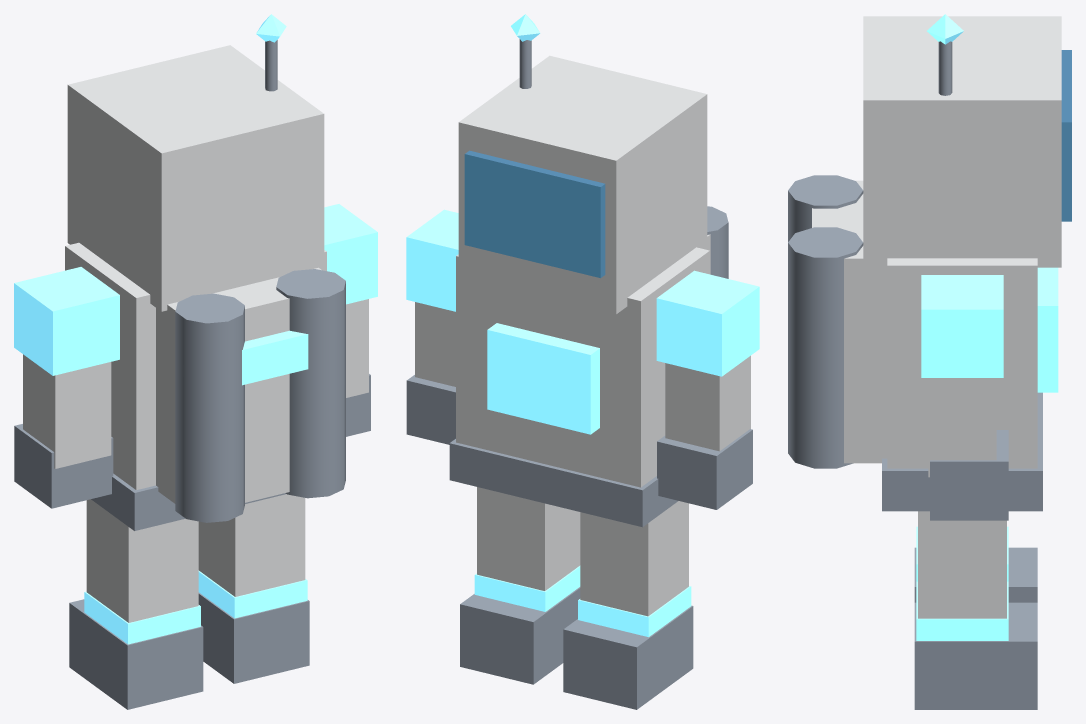
File: astronaut_lunar.glb
The picture shows the model from 3 angles, left to right: view 1: azimuth 30°, elevation 25°; view 2: azimuth 150°, elevation 25°; view 3: azimuth 270°, elevation 25°; orthographic projection. The views are drawn at different scales.
Parts seen in each view (by area): view 1: Helmet, LeftOxygenTank, RightOxygenTank, BackpackCore, LeftLegThigh, Torso, LeftShoulderPad, LeftBoot, RightLegThigh, LeftArmSleeve, RightBoot, LeftGlove (+8 smaller); view 2: Helmet, Torso, Visor, ChestPanel, LeftLegThigh, LeftBoot, LeftShoulderPad, Belt, RightLegThigh, RightBoot, LeftArmSleeve, LeftGlove (+7 smaller); view 3: Helmet, Torso, RightOxygenTank, BackpackCore, RightBoot, RightLegThigh, RightShoulderPad, RightArmSleeve, RightGlove, Belt, ChestPanel, LeftOxygenTank (+5 smaller).
Boxes of the visible parts, x1,y1,x2,y2 form: Helmet: [67, 45, 324, 311]; LeftOxygenTank: [175, 293, 244, 522]; RightOxygenTank: [276, 269, 345, 498]; BackpackCore: [156, 267, 321, 503]; LeftLegThigh: [86, 499, 198, 622]; Torso: [65, 242, 326, 489]; LeftShoulderPad: [14, 267, 119, 375]; LeftBoot: [69, 599, 203, 709]; RightLegThigh: [198, 494, 305, 596]; LeftArmSleeve: [23, 354, 111, 468]; RightBoot: [198, 592, 309, 683]; LeftGlove: [14, 424, 113, 508]; Helmet: [458, 55, 707, 314]; Torso: [456, 247, 709, 487]; Visor: [464, 150, 605, 278]; ChestPanel: [487, 323, 599, 434]; LeftLegThigh: [580, 501, 688, 616]; LeftBoot: [563, 605, 693, 709]; LeftShoulderPad: [656, 270, 759, 376]; Belt: [449, 439, 678, 527]; RightLegThigh: [477, 487, 580, 590]; RightBoot: [460, 587, 580, 684]; LeftArmSleeve: [665, 355, 750, 451]; LeftGlove: [657, 429, 752, 509]; Helmet: [863, 16, 1061, 267]; Torso: [887, 258, 1037, 468]; RightOxygenTank: [788, 227, 863, 468]; BackpackCore: [812, 180, 887, 463]; RightBoot: [914, 602, 1037, 709]; RightLegThigh: [918, 511, 1006, 618]; RightShoulderPad: [921, 275, 1003, 377]; RightArmSleeve: [928, 378, 996, 477]; RightGlove: [930, 430, 1008, 520]; Belt: [882, 392, 1042, 511]; ChestPanel: [1037, 267, 1058, 392]; LeftOxygenTank: [788, 175, 863, 241].
Bounding box in the file's own units: 1.16 × 2.2 × 0.83.
